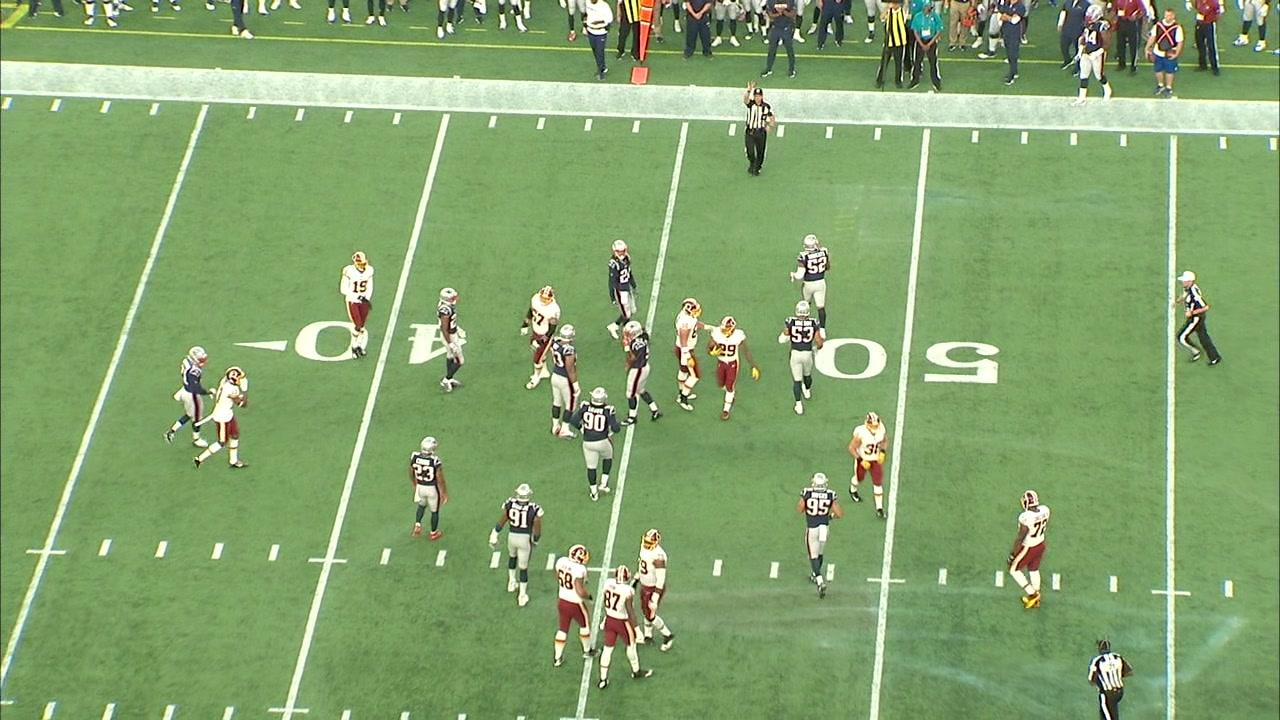five_hash: (23, 545, 69, 560), (1150, 587, 1192, 600), (306, 555, 350, 567), (267, 705, 311, 717), (863, 575, 907, 586)
hash: (93, 535, 116, 560), (432, 545, 454, 570), (764, 558, 785, 584), (149, 538, 172, 561), (37, 698, 61, 720), (1047, 570, 1067, 596), (708, 556, 730, 579), (98, 698, 121, 720), (209, 540, 229, 562), (375, 546, 394, 569), (991, 567, 1010, 590), (1105, 572, 1123, 596), (822, 560, 840, 583), (160, 699, 179, 720), (265, 541, 283, 563), (935, 566, 953, 588), (1221, 577, 1237, 601), (220, 703, 238, 720)
marker: (635, 0, 656, 60)
number: (809, 333, 1008, 389)
